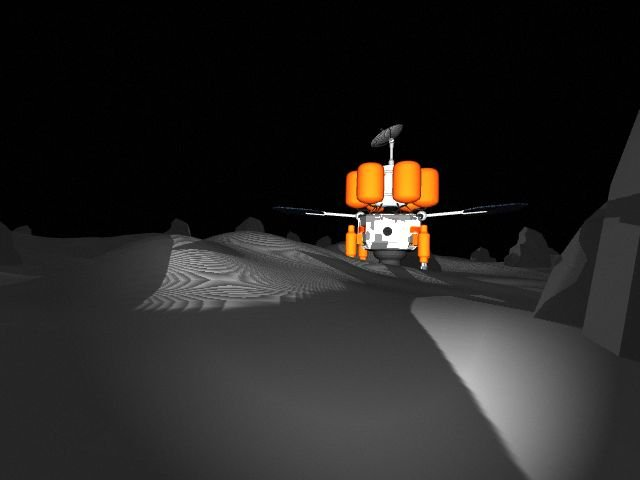homebase: (251, 122, 534, 273)
